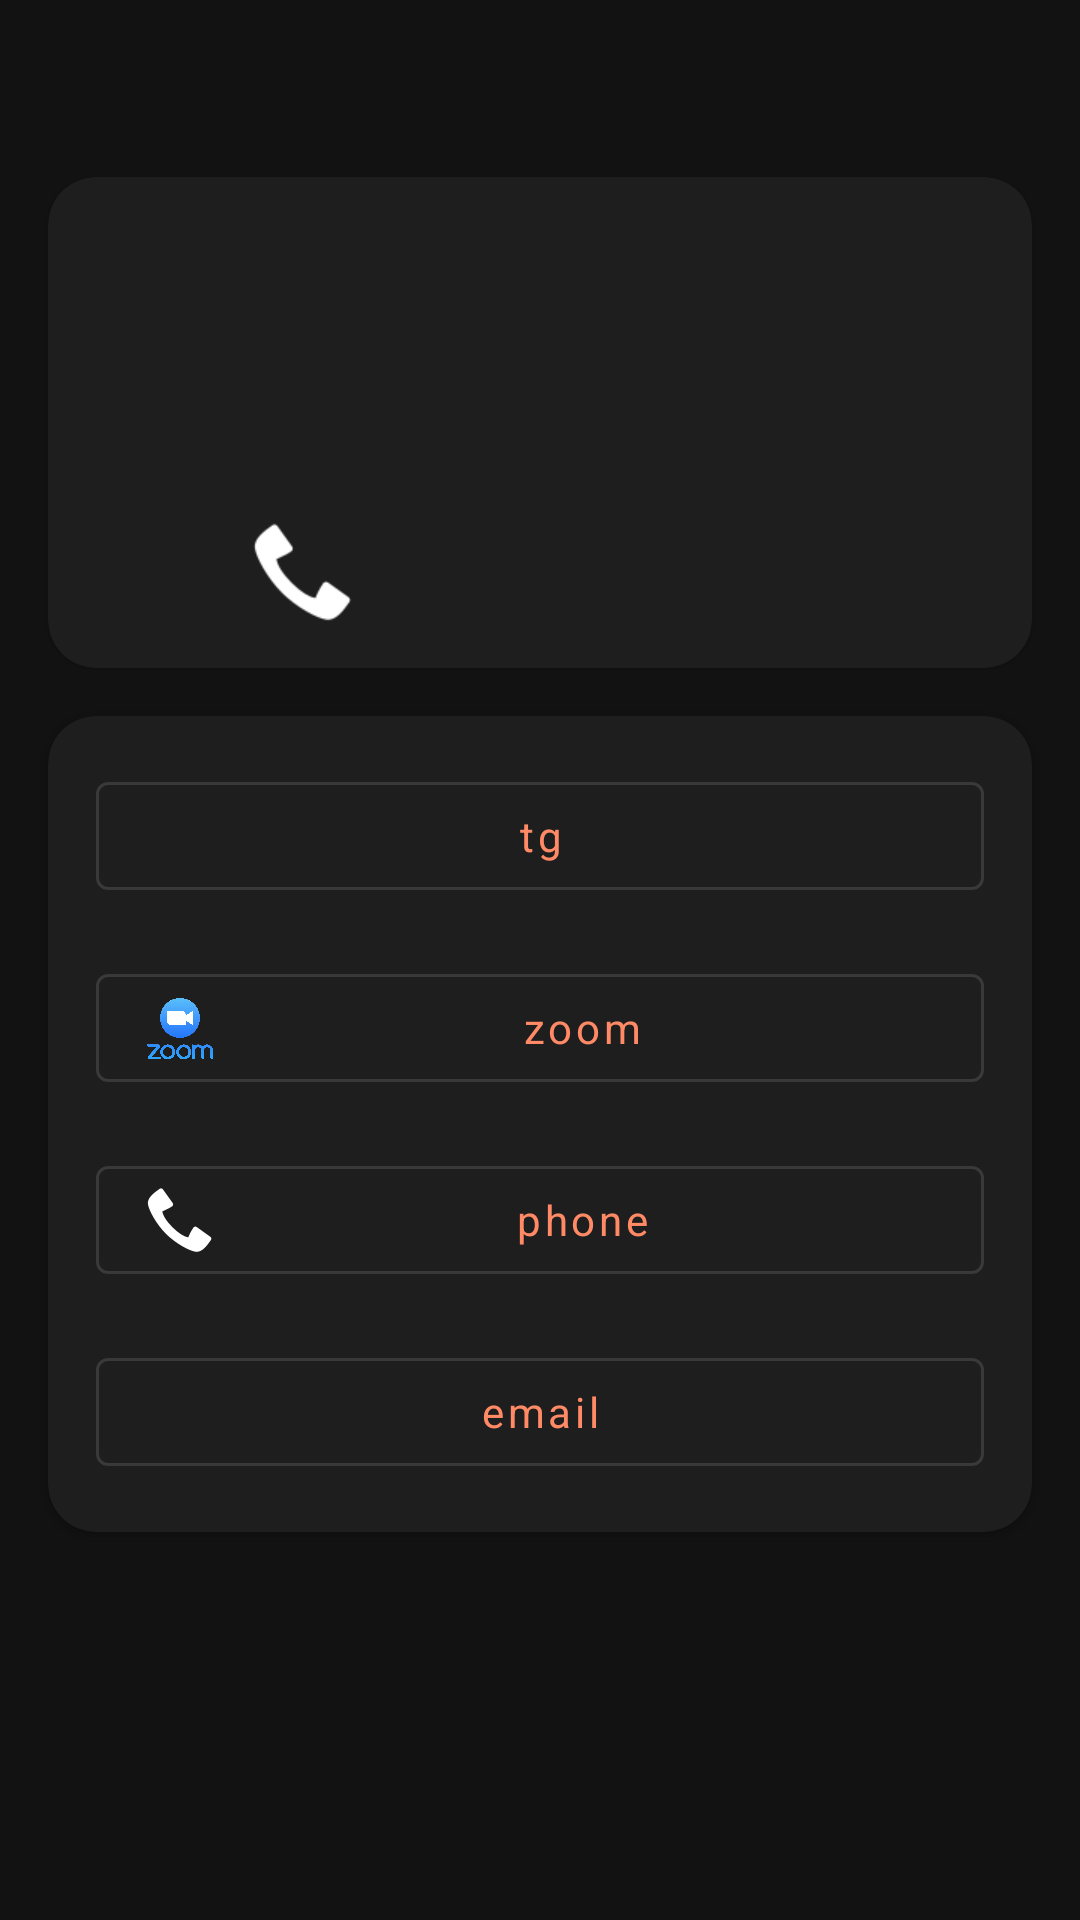

Icon click points for this 1080px×1920px phone screenshot, format (x,y):
phone call: (302,572)
